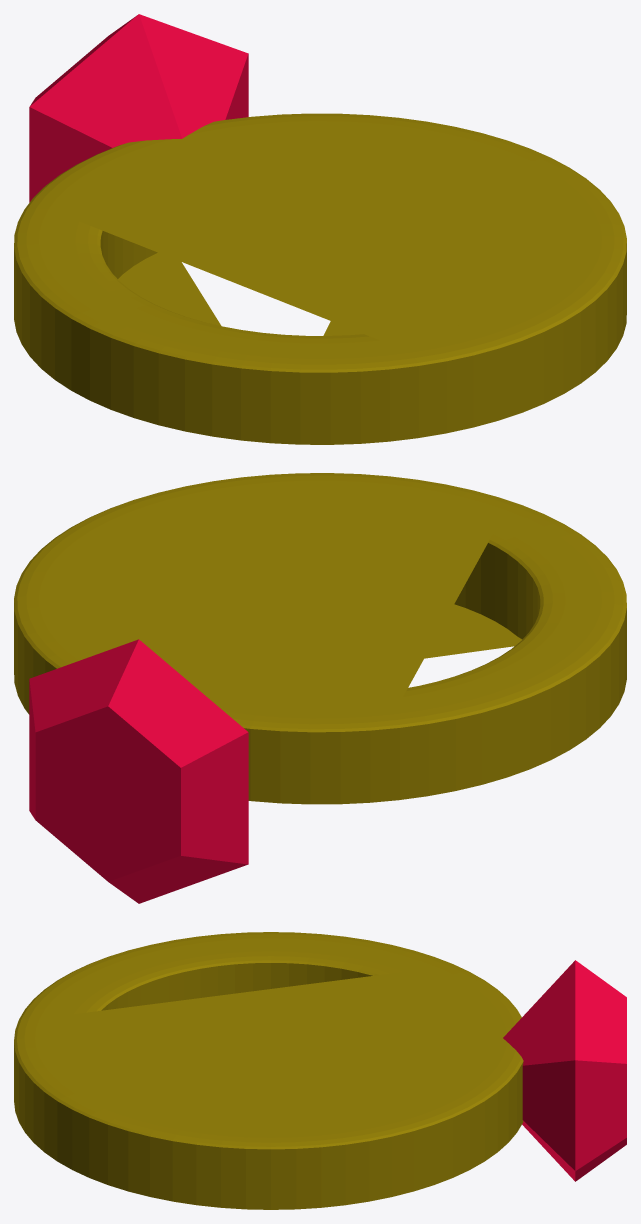
Rendered from RingIcon.fbx.
3 views of the same model, one above another, from view 1: azimuth 30°, elevation 25°; view 2: azimuth 150°, elevation 25°; view 3: azimuth 270°, elevation 25° (orthographic). The views are drawn at different scales.
Parts seen in each view (by area): view 1: Cylinder; view 2: Cylinder; view 3: Cylinder.
Part boxes in pixels (x1,y1,x2,y2): Cylinder: (14, 14, 626, 444); Cylinder: (14, 473, 626, 903); Cylinder: (14, 932, 626, 1209).
Bounding box in the file's own units: 200 × 95.23 × 238.
